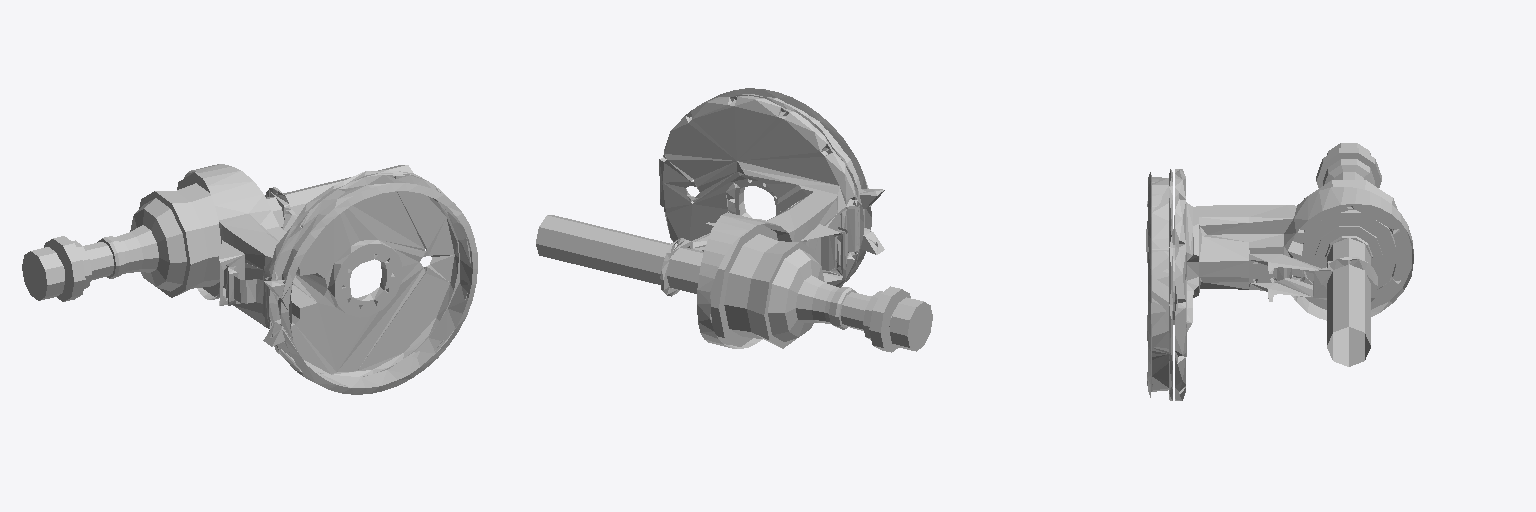
The model's file is HGA_AZ.obj.
3 views of the same model, side by side, from view 1: azimuth 30°, elevation 25°; view 2: azimuth 150°, elevation 25°; view 3: azimuth 270°, elevation 25° (orthographic).
Parts seen in each view (by area): view 1: HGA_AZ.obj; view 2: HGA_AZ.obj; view 3: HGA_AZ.obj.
Part boxes in pixels (left/top/right/bottom): HGA_AZ.obj: left=22, top=164, right=477, bottom=394; HGA_AZ.obj: left=536, top=88, right=932, bottom=352; HGA_AZ.obj: left=1146, top=143, right=1413, bottom=400.
Bounding box in the file's own units: 0.336 × 0.1818 × 0.2094.